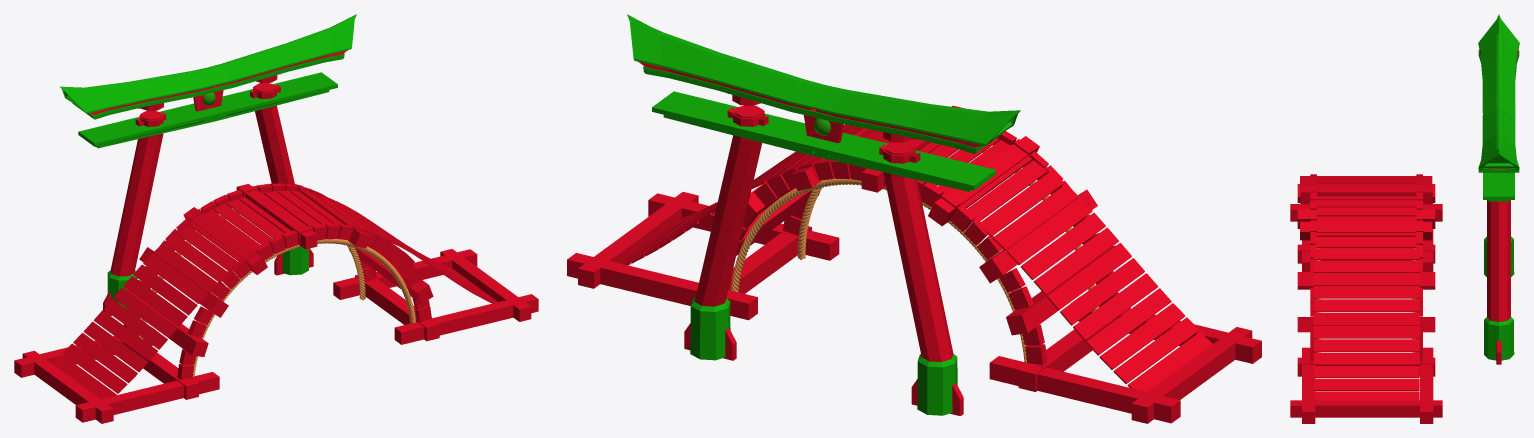
File: Entrance.fbx
The picture shows the model from 3 angles, left to right: view 1: azimuth 30°, elevation 25°; view 2: azimuth 150°, elevation 25°; view 3: azimuth 270°, elevation 25°; orthographic projection. The views are drawn at different scales.
Visible parts, largest first — view 1: Bridge; view 2: Bridge; view 3: Bridge.
Part boxes in pixels (left/top/right/bottom): Bridge: left=14, top=14, right=538, bottom=423; Bridge: left=567, top=14, right=1261, bottom=423; Bridge: left=1290, top=14, right=1519, bottom=423.
Size of the model in its own units: 383 by 197 by 173.
